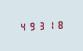eight: (54, 19, 62, 29)
four: (18, 21, 26, 31)
nine: (27, 20, 35, 31)
one: (45, 19, 53, 30)
three: (36, 20, 44, 30)
